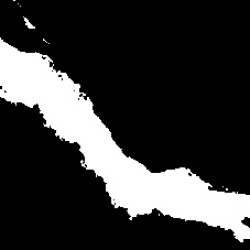crack: (0, 38, 249, 243), (13, 3, 52, 43)
